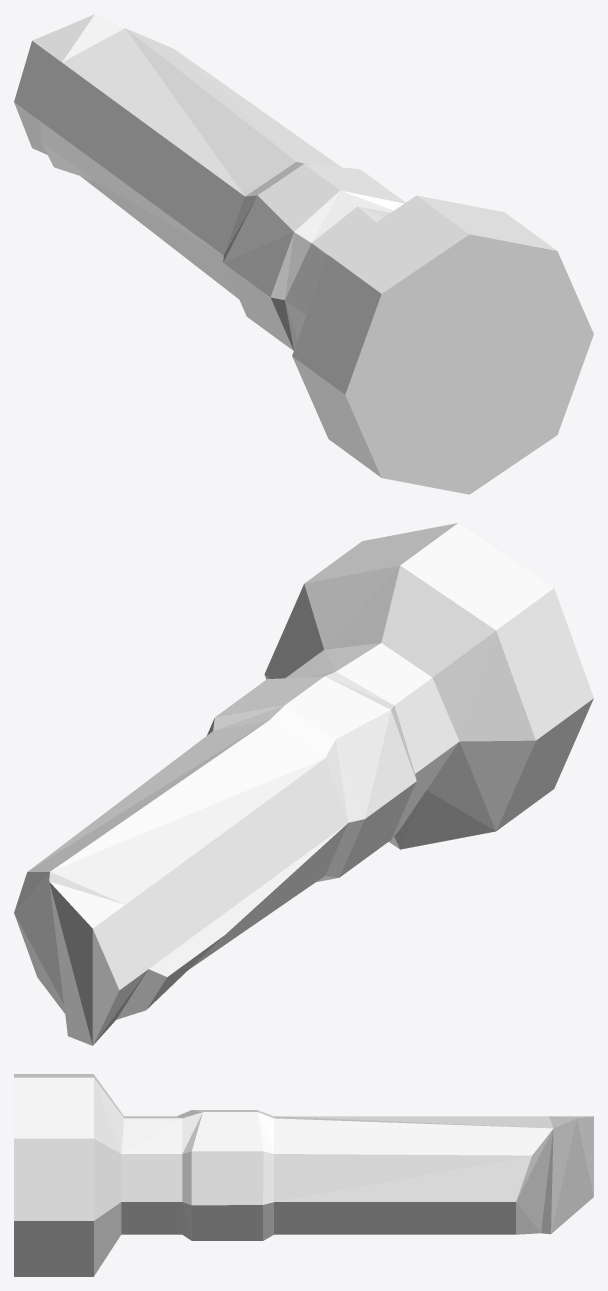
The model's file is venice_col_obj_6.fbx.
3 renders of one model, top to bottom at view 1: azimuth 30°, elevation 25°; view 2: azimuth 150°, elevation 25°; view 3: azimuth 270°, elevation 25°, orthographic. The views are drawn at different scales.
Visible parts, largest first — view 1: Cylinder.045; view 2: Cylinder.045; view 3: Cylinder.045.
Boxes of the visible parts, x1,y1,x2,y2 form: Cylinder.045: (14, 14, 593, 494); Cylinder.045: (14, 523, 593, 1045); Cylinder.045: (14, 1074, 593, 1276).
Bounding box in the file's own units: 288 × 288 × 773.
